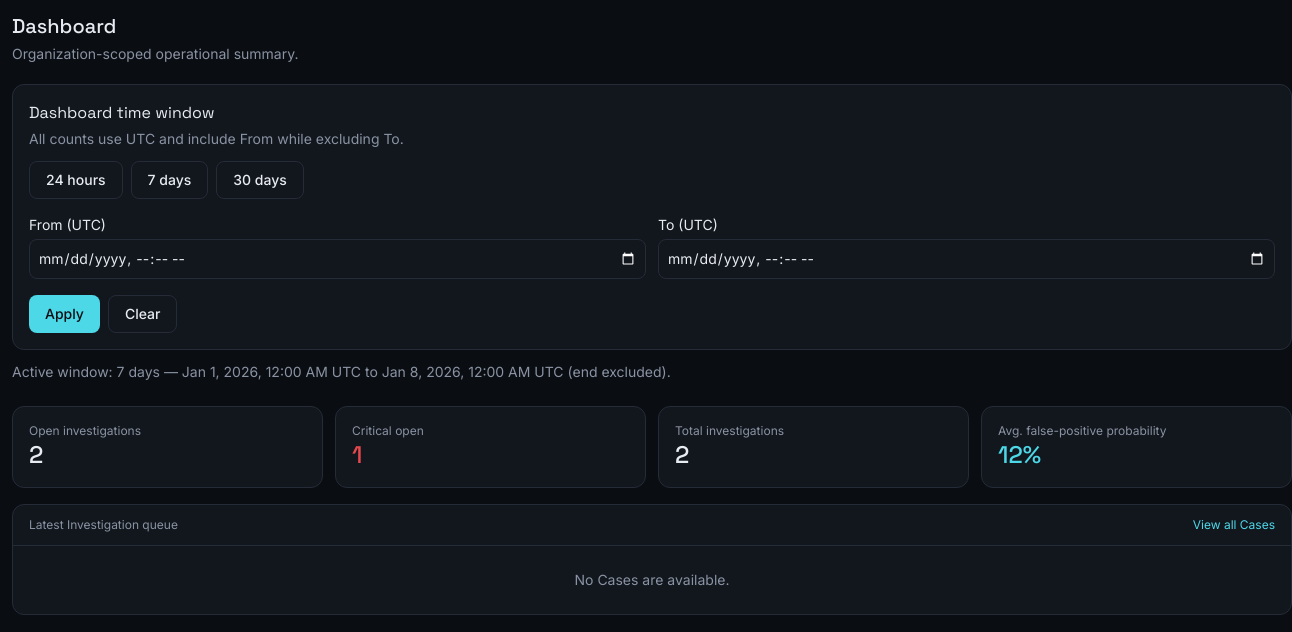
Test: Dashboard and Cases U2-B › uses approved presets, explicit UTC custom ranges, and bounded validation
The image size is (1292, 632).
Expected: the text "Open investigations" is shown, [29,423,141,438]
Click the button "24 hours" at [76, 180], box [29,161,123,199]
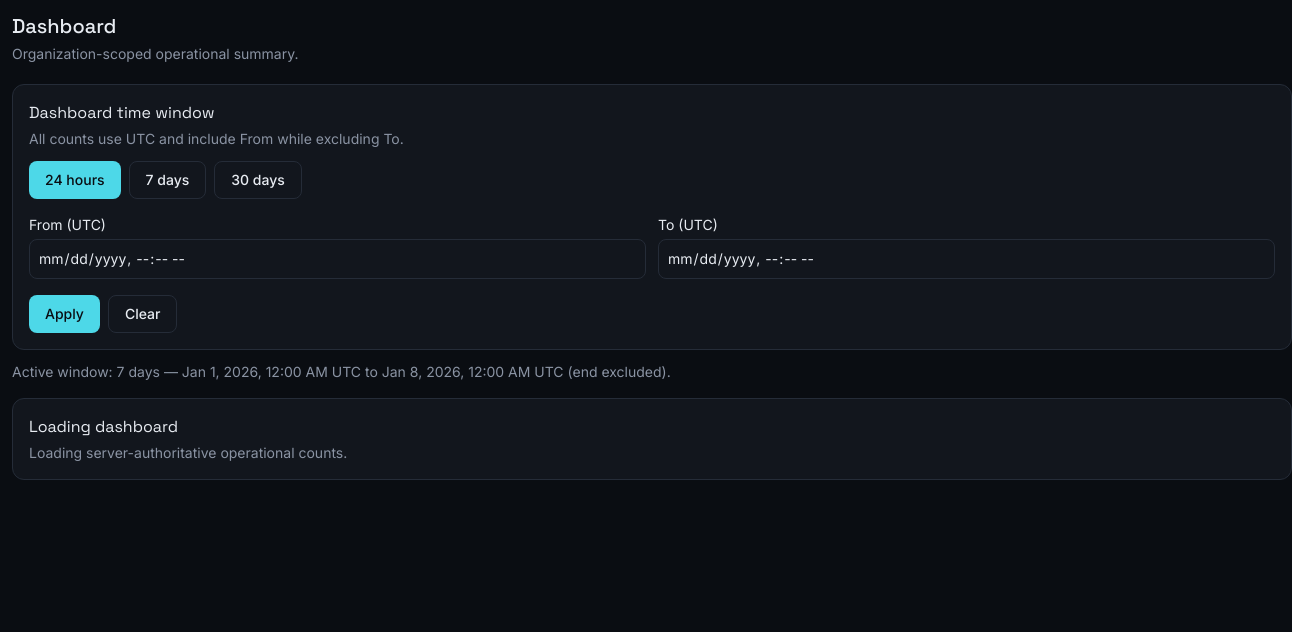
Click the button "Clear" at [143, 314], box [108,295,177,333]
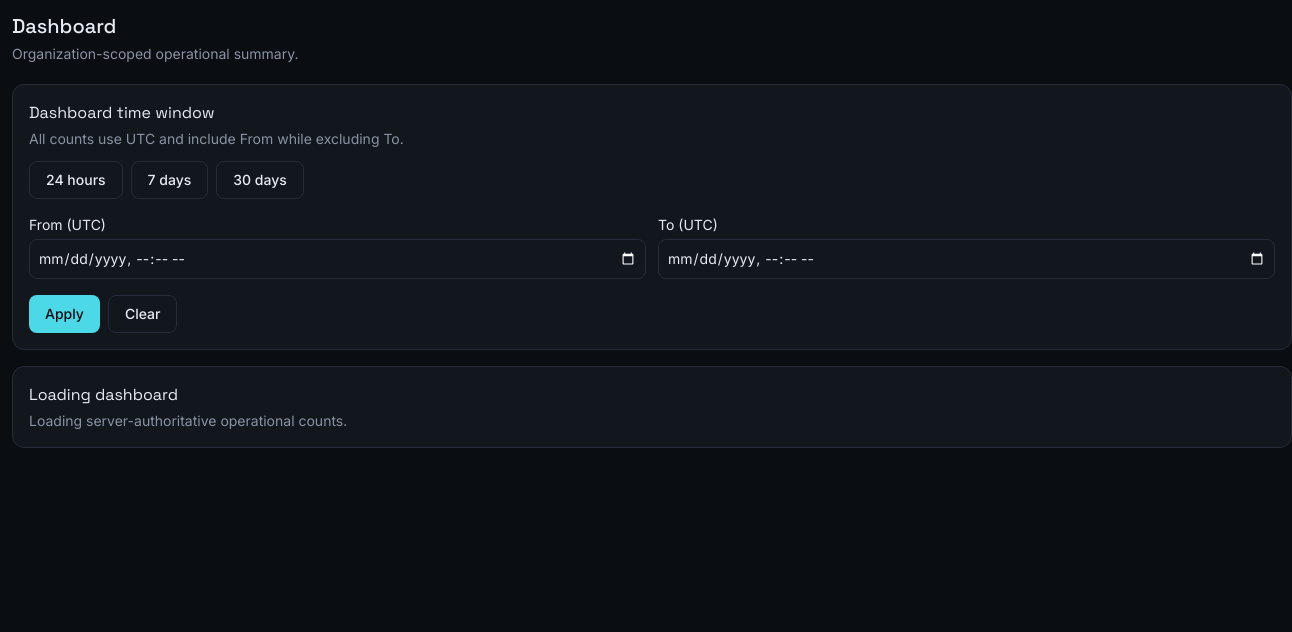
Type "2026-01-03T00:00" into the field labelled "From (UTC)" at [338, 259], box [29,239,646,279]
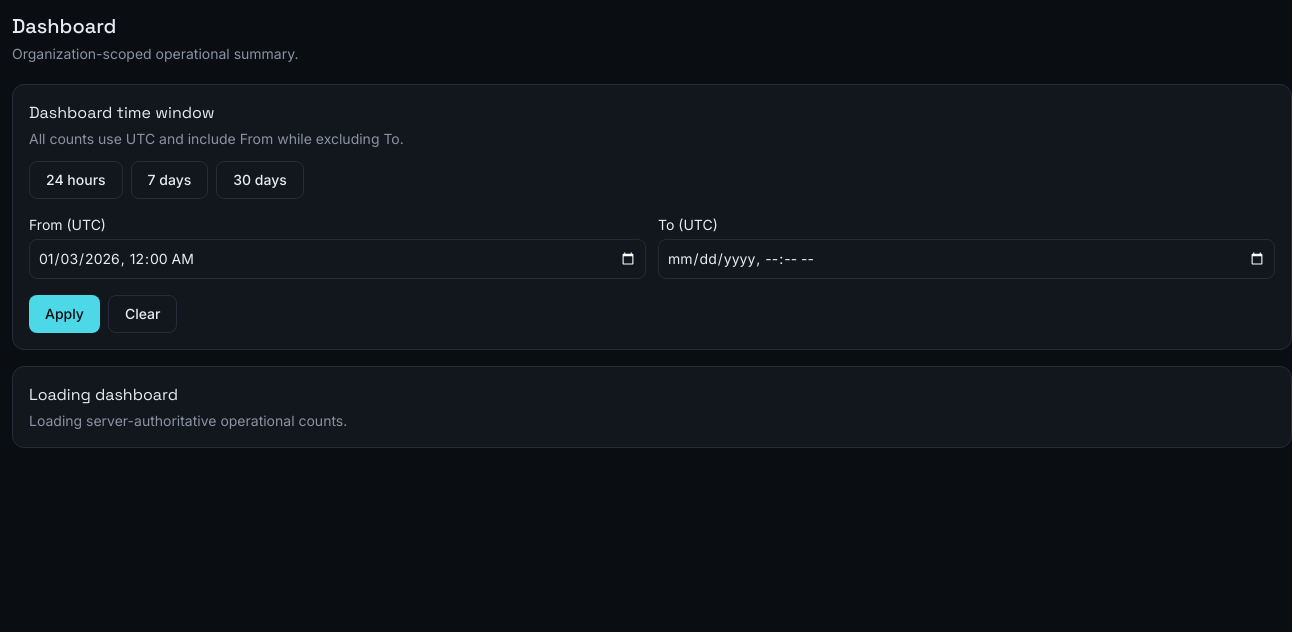
Type "2026-01-02T00:00" into the field labelled "To (UTC)" at [966, 259], box [658,239,1275,279]
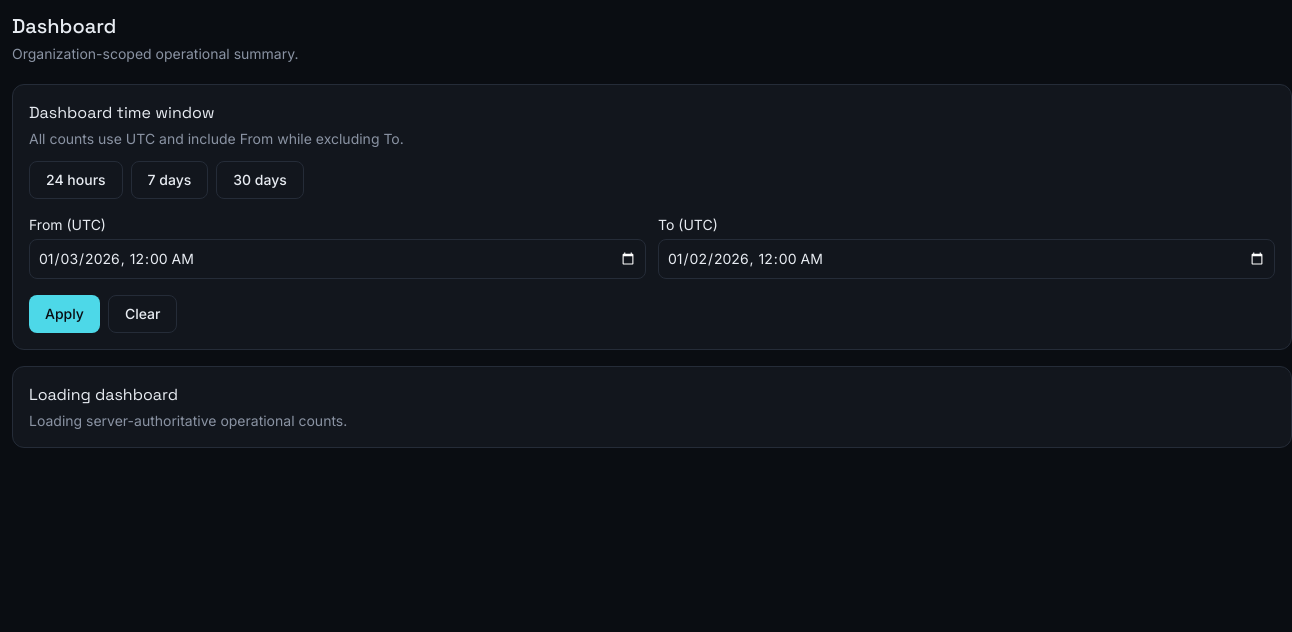
Click the button "Apply" at [64, 314], box [29,295,100,333]
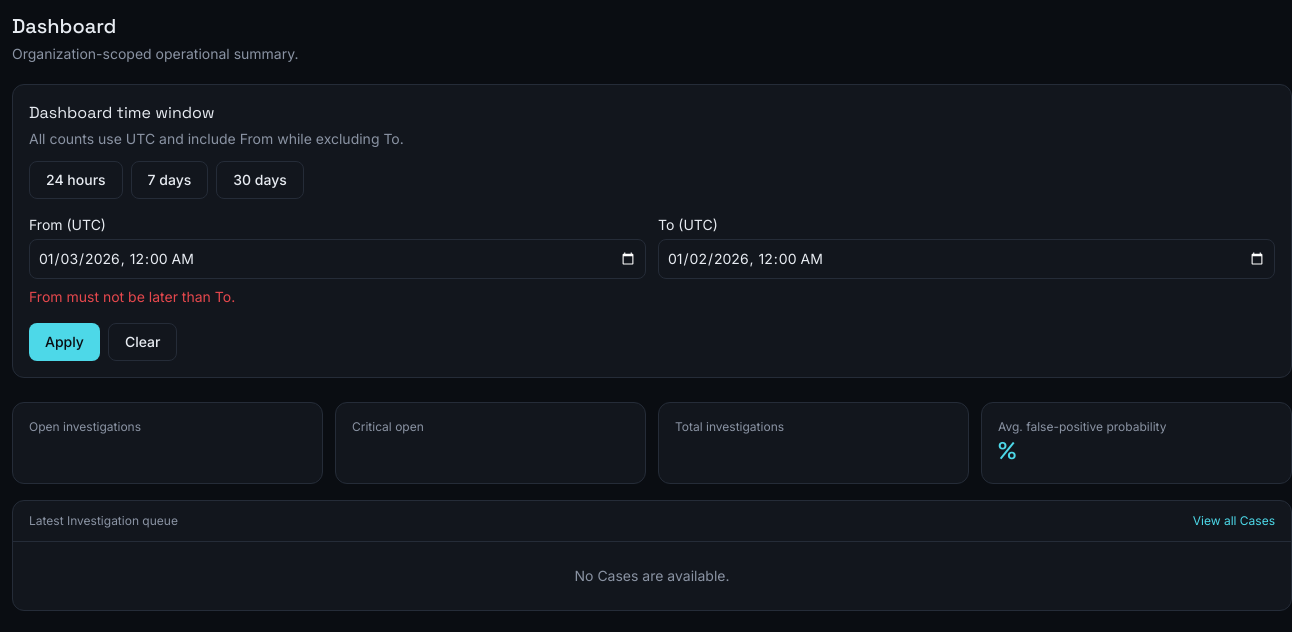
Expected: the message shows "From must not be later", [29,288,235,305]
